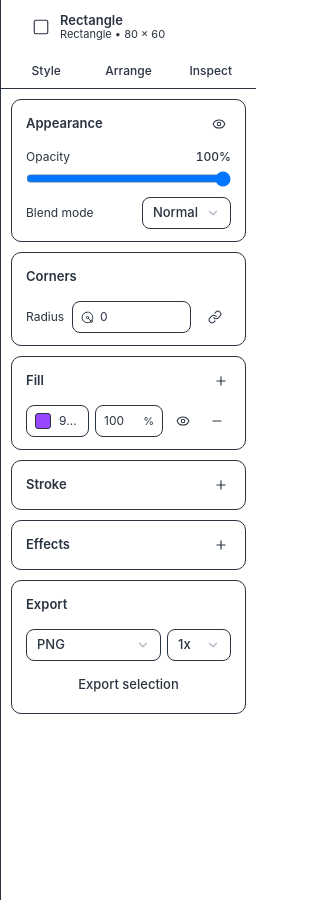
Test: InspectorPanel (docked rail) › switches tabs from the strip
Expected: the heading "Position" is not shown
Click the tab "Arrange" at (128, 71), box [87,54,170,88]
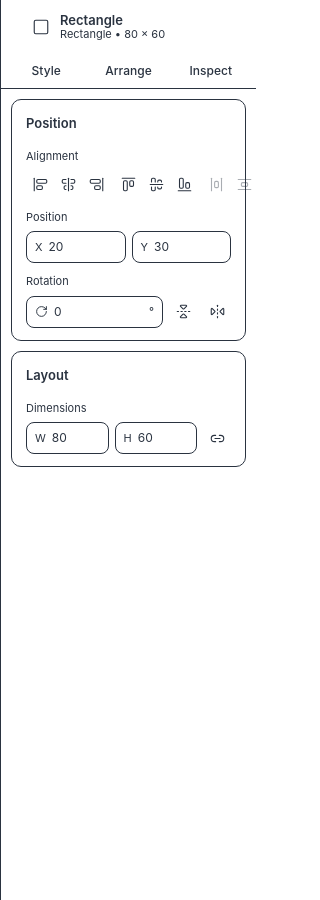
Now the heading "Position" is shown, box [26,114,231,134]
